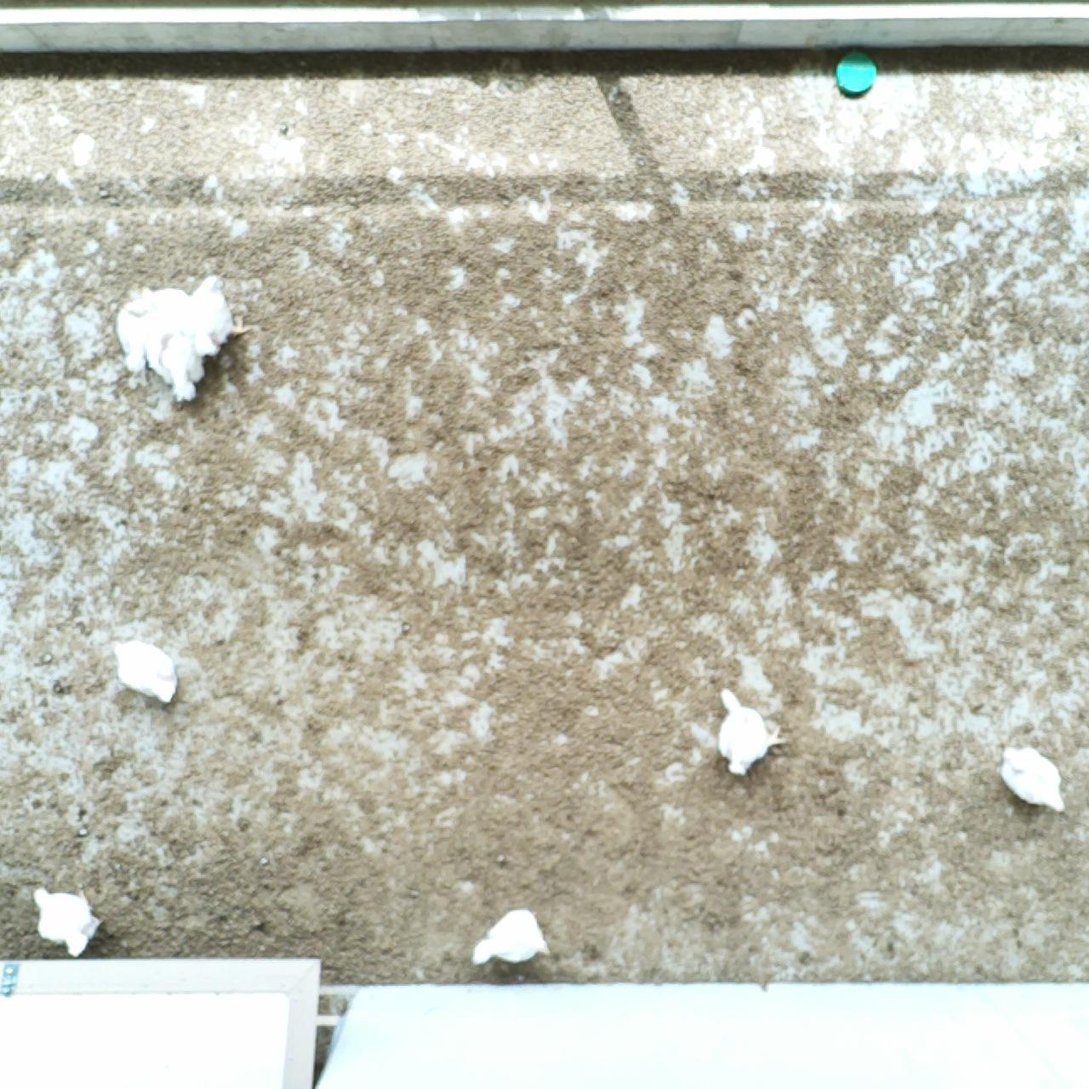chicken: (139, 279, 207, 408), (711, 684, 788, 780), (177, 270, 251, 368), (27, 879, 106, 960), (469, 904, 556, 973), (104, 633, 179, 710), (998, 741, 1068, 815), (113, 281, 161, 381)
